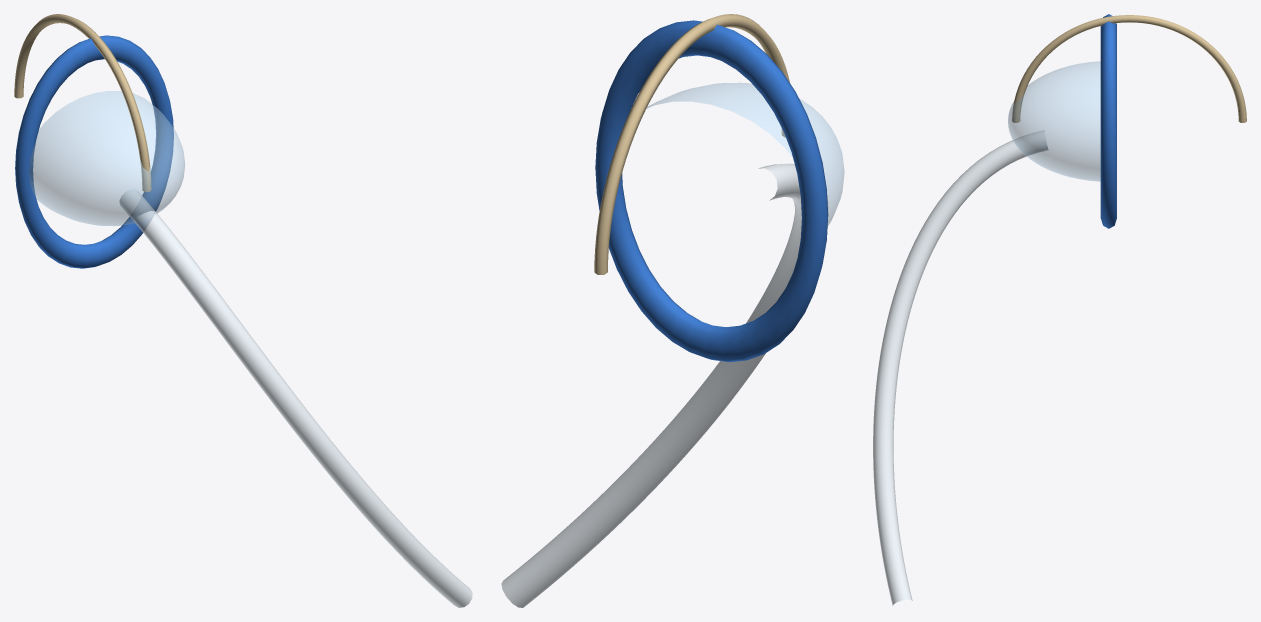
Rendered from oxygen_mask.glb.
The picture shows the model from 3 angles, left to right: view 1: azimuth 30°, elevation 25°; view 2: azimuth 150°, elevation 25°; view 3: azimuth 270°, elevation 25°; orthographic projection. The views are drawn at different scales.
Parts seen in each view (by area): view 1: OxygenMask; view 2: OxygenMask; view 3: OxygenMask.
Part boxes in pixels (x1,y1,x2,y2): OxygenMask: (14, 14, 472, 607); OxygenMask: (501, 14, 844, 607); OxygenMask: (873, 14, 1246, 605).
Bounding box in the file's own units: 0.3352 × 0.5211 × 0.3629.
